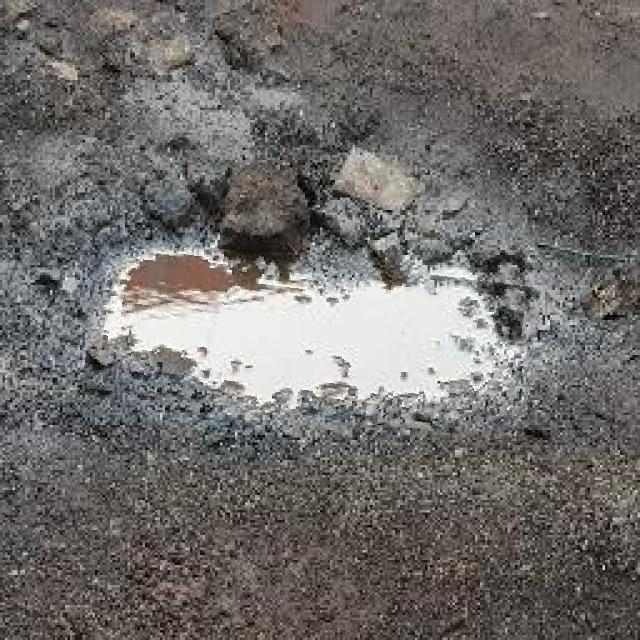puddle: (87, 248, 539, 429)
